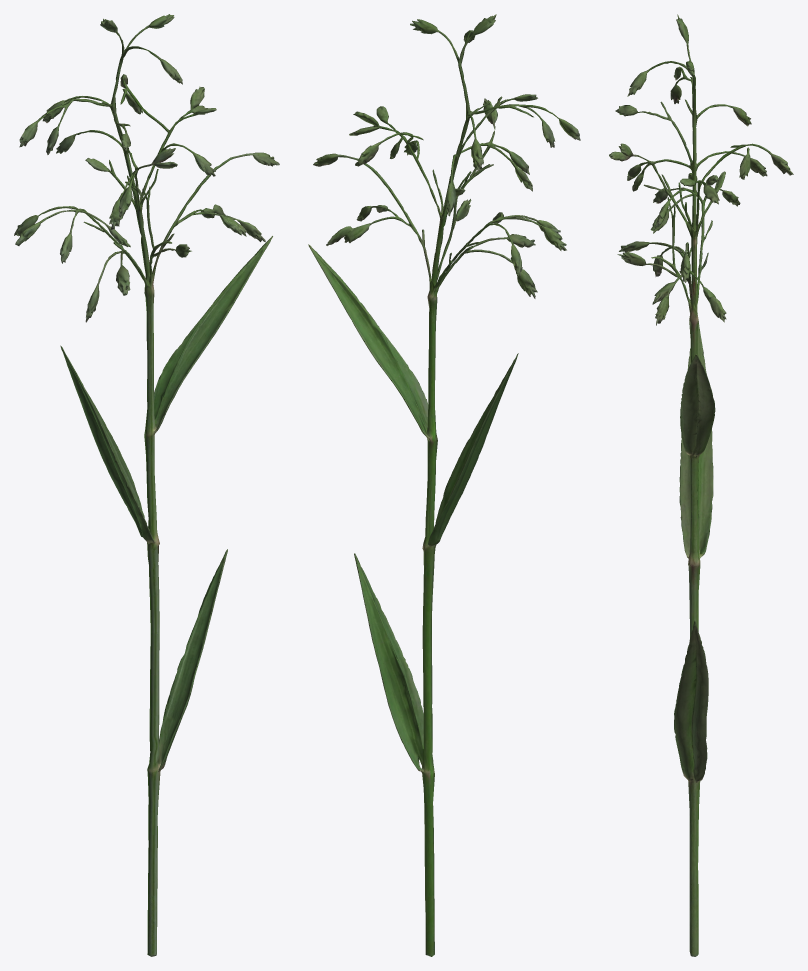
File: sprig_green.glb
The picture shows the model from 3 angles, left to right: view 1: azimuth 30°, elevation 25°; view 2: azimuth 150°, elevation 25°; view 3: azimuth 270°, elevation 25°; orthographic projection. The views are drawn at different scales.
Size of the model in its own units: 0.5513 by 1.9 by 0.3487.
Materials: 1 (1 with a texture image).
